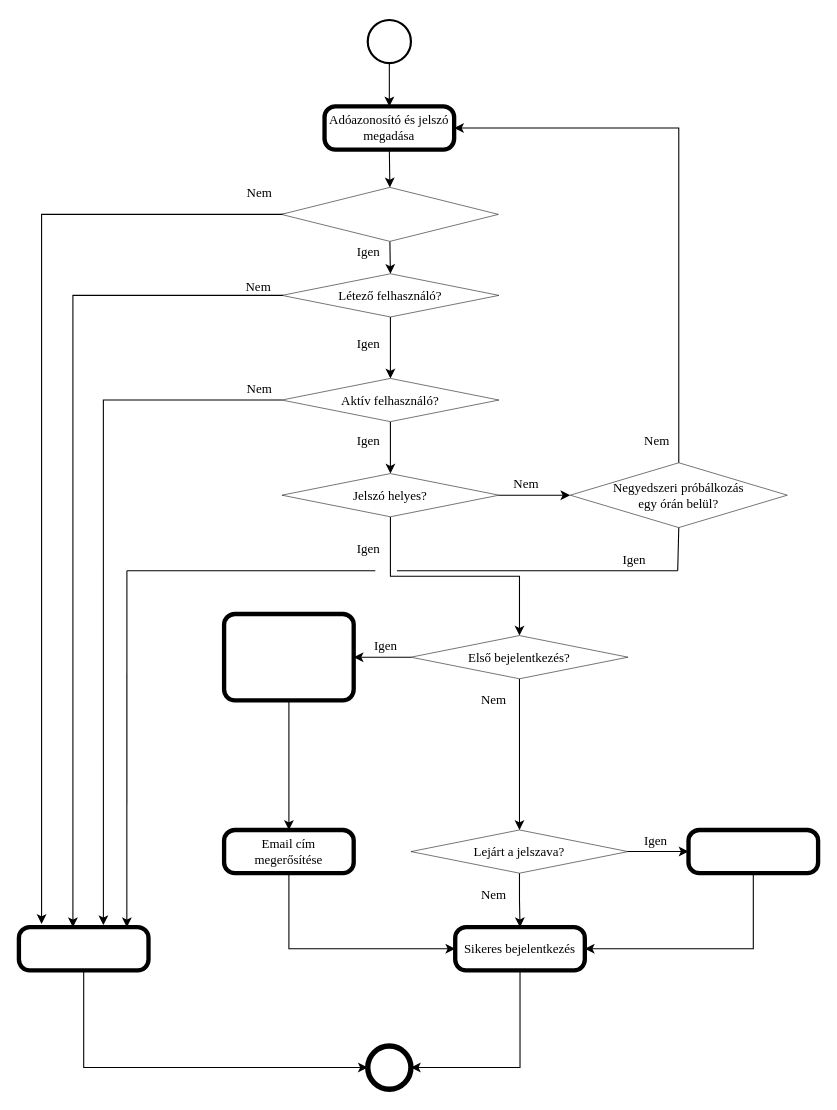
This 837x1110 diagram has some shape labels left out. Here are the shapes that lost their labels. From the top down, the centre of each, then its label:
At [389,214]: "Magyarországról jelentkezett be?".
At [288,656]: "Email cím és új jelszó megadása Adatvédelmi nyilatkozat elfogadása".
At [753,851]: "Jelszócsere".
At [83,948]: "Sikertelen bejelentkezés".
